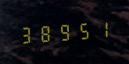eight: (36, 21, 53, 44)
five: (72, 19, 89, 42)
nine: (54, 20, 71, 43)
one: (90, 18, 107, 40)
three: (18, 23, 35, 46)
